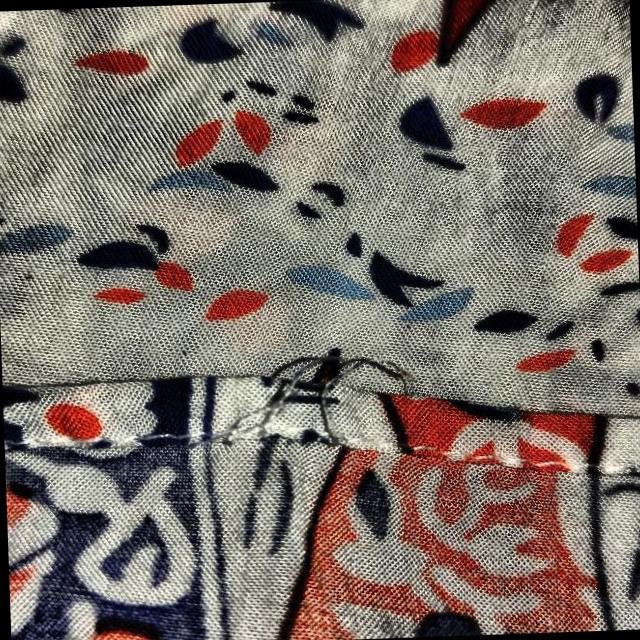gray stitch: (174, 327, 430, 506)
